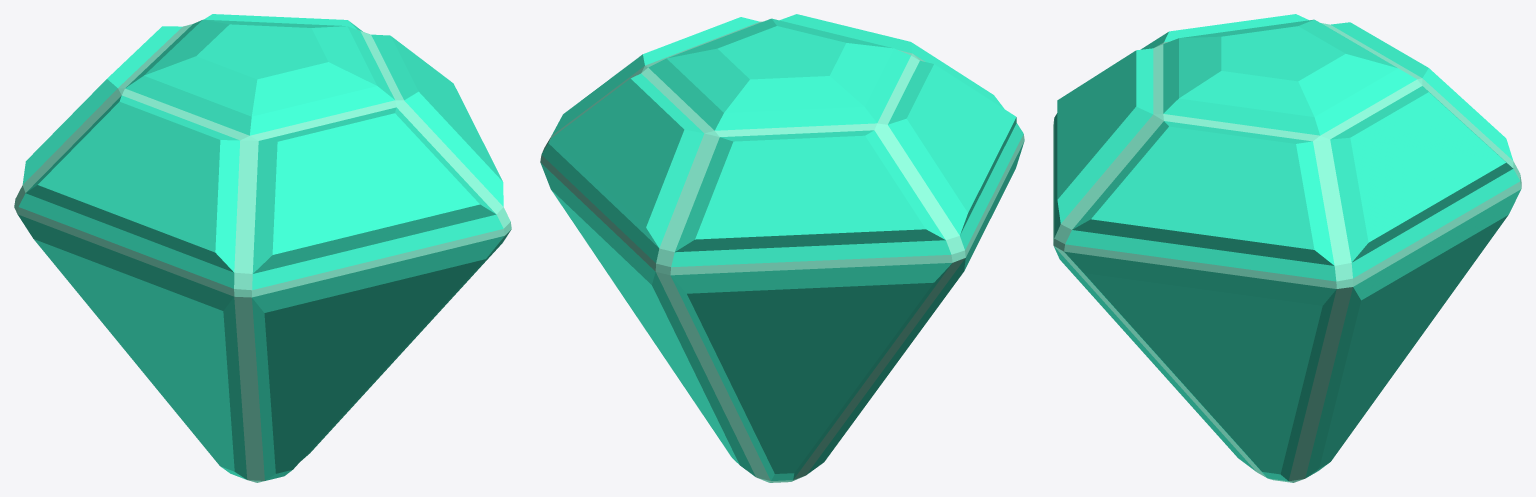
The model's file is Crystal 2.fbx.
The picture shows the model from 3 angles, left to right: view 1: azimuth 30°, elevation 25°; view 2: azimuth 150°, elevation 25°; view 3: azimuth 270°, elevation 25°; orthographic projection. The views are drawn at different scales.
Visible parts, largest first — view 1: Crystal 2; view 2: Crystal 2; view 3: Crystal 2.
Boxes of the visible parts, bbox=[...] form: Crystal 2: bbox=[14, 14, 511, 482]; Crystal 2: bbox=[540, 14, 1024, 482]; Crystal 2: bbox=[1053, 14, 1521, 482].
Size of the model in its own units: 40.55 by 38.34 by 38.56.
